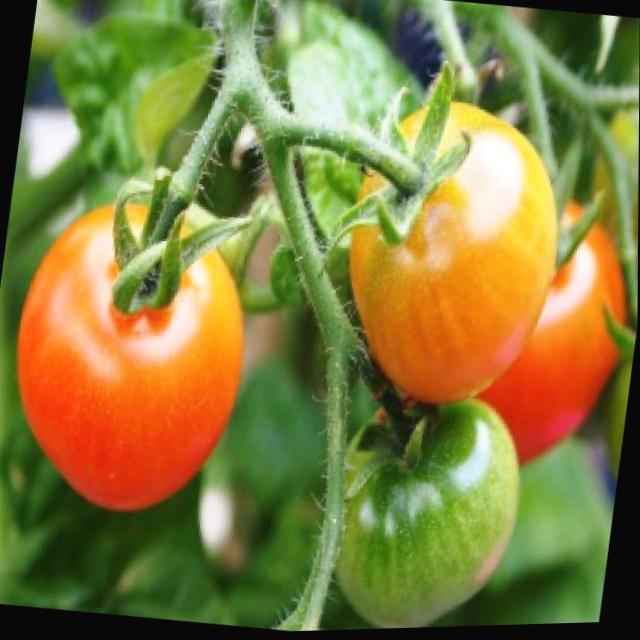tomato: (0, 191, 258, 529), (324, 87, 577, 423), (468, 214, 639, 484)
